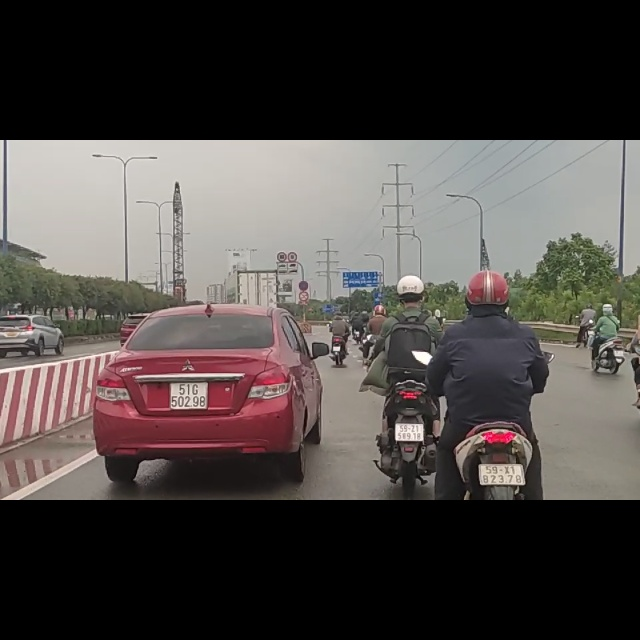bien_cam: (298, 250, 309, 268)
